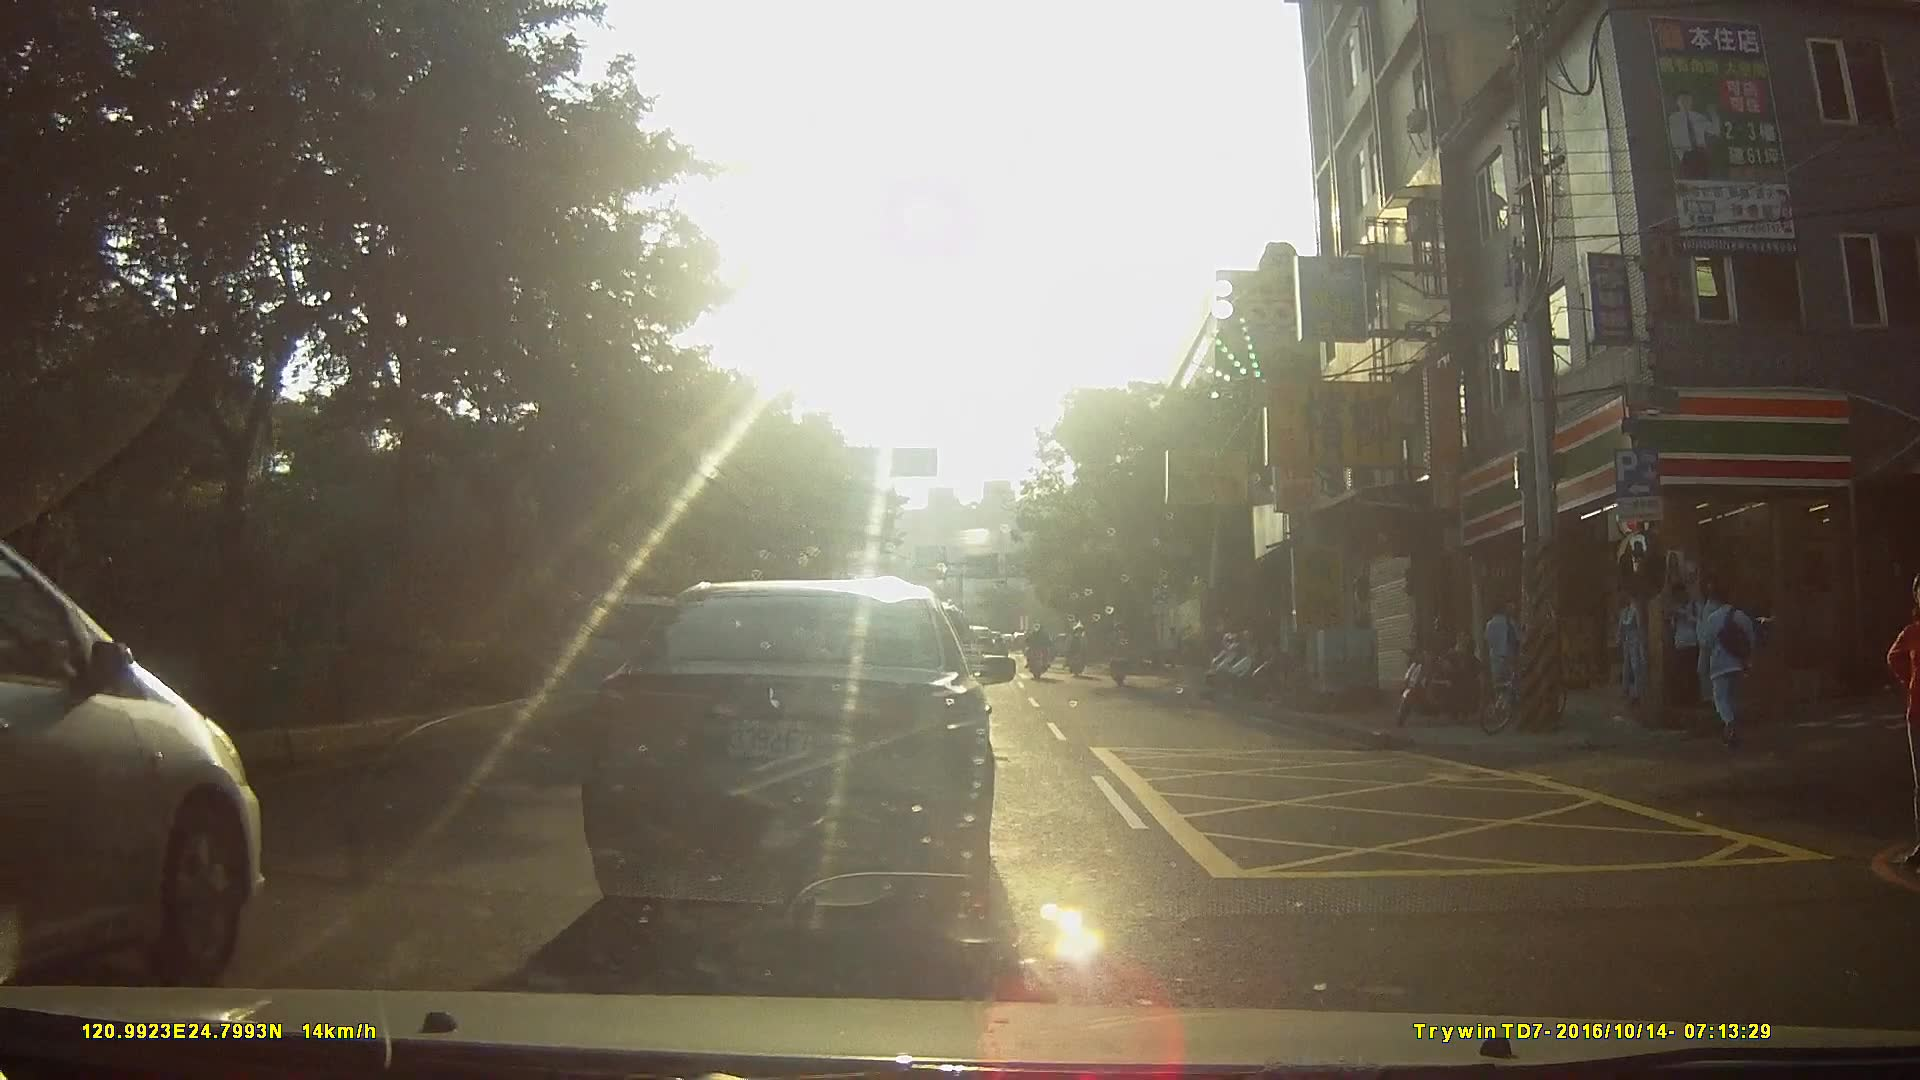pedestrian: (1691, 584, 1768, 753), (1893, 567, 1920, 854), (1479, 599, 1528, 713), (1670, 570, 1707, 710), (1618, 583, 1655, 708)
rider: (1064, 621, 1094, 682), (1023, 620, 1054, 681), (1110, 621, 1135, 688)
vehicle: (555, 569, 1027, 941), (0, 492, 343, 996)
